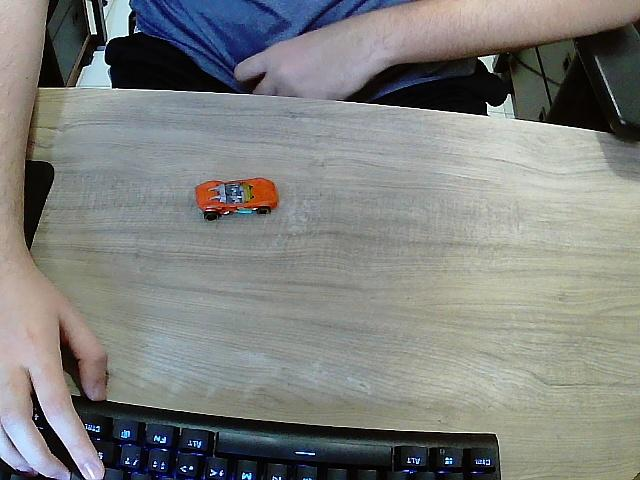Carro: (194, 179, 280, 221)
